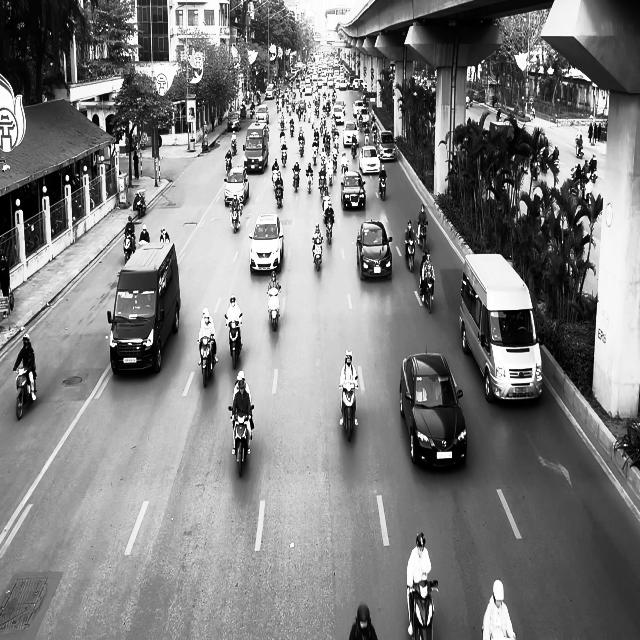car: (399, 348, 467, 469), (248, 212, 284, 274), (356, 220, 393, 280), (340, 170, 366, 210), (224, 167, 249, 206), (359, 145, 380, 174)
motorbike: (228, 404, 254, 477), (13, 366, 36, 420), (339, 377, 358, 442), (198, 336, 216, 388), (225, 313, 242, 368), (419, 270, 435, 312), (267, 284, 281, 330), (404, 232, 416, 271), (229, 199, 242, 233), (123, 231, 135, 263), (417, 220, 428, 251), (134, 190, 146, 218), (312, 238, 322, 270), (324, 212, 334, 244), (292, 167, 301, 192), (274, 183, 283, 208), (378, 175, 386, 200), (224, 154, 232, 177)
truck: (459, 252, 543, 403), (106, 240, 180, 374)
